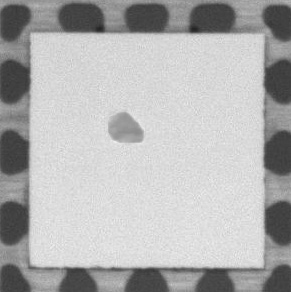DIE_INK: (103, 107, 146, 148)
